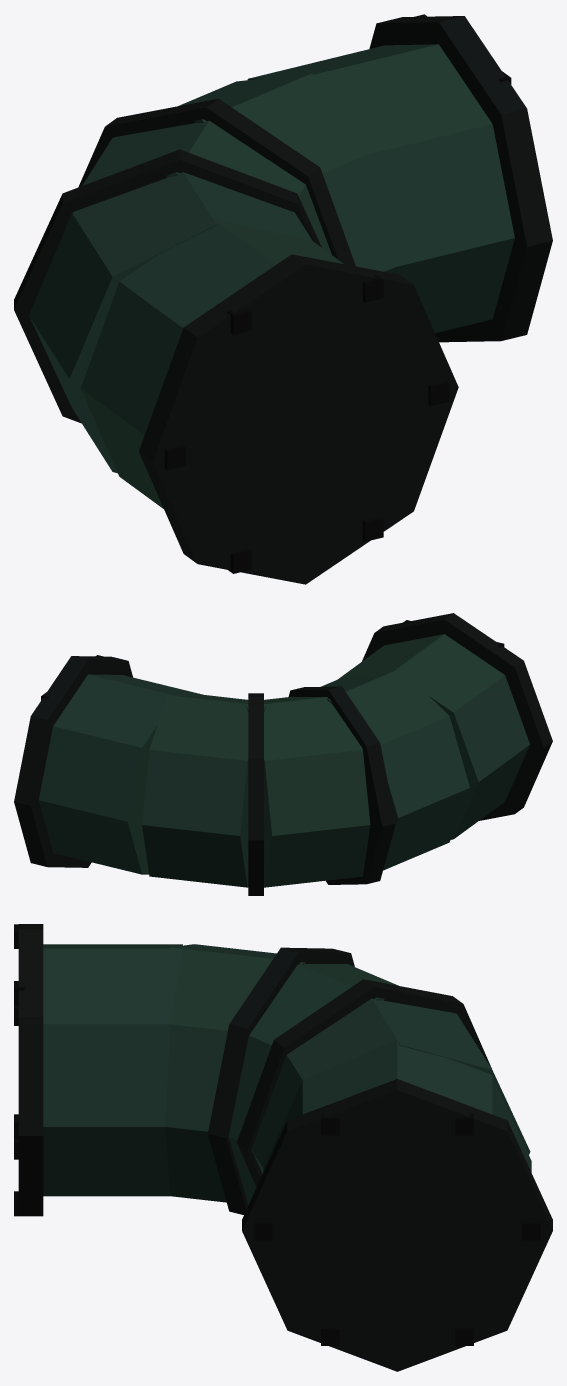
The model's file is SM_Pipe_Elbow.glb.
The picture shows the model from 3 angles, top to bottom: view 1: azimuth 30°, elevation 25°; view 2: azimuth 150°, elevation 25°; view 3: azimuth 270°, elevation 25°; orthographic projection. The views are drawn at different scales.
Parts seen in each view (by area): view 1: SM_Pipe_Elbow-col; view 2: SM_Pipe_Elbow-col; view 3: SM_Pipe_Elbow-col.
Boxes of the visible parts, bbox=[...] form: SM_Pipe_Elbow-col: bbox=[14, 14, 552, 584]; SM_Pipe_Elbow-col: bbox=[14, 613, 552, 895]; SM_Pipe_Elbow-col: bbox=[14, 924, 552, 1371].
Bounding box in the file's own units: 2.01 × 1.16 × 2.01.
